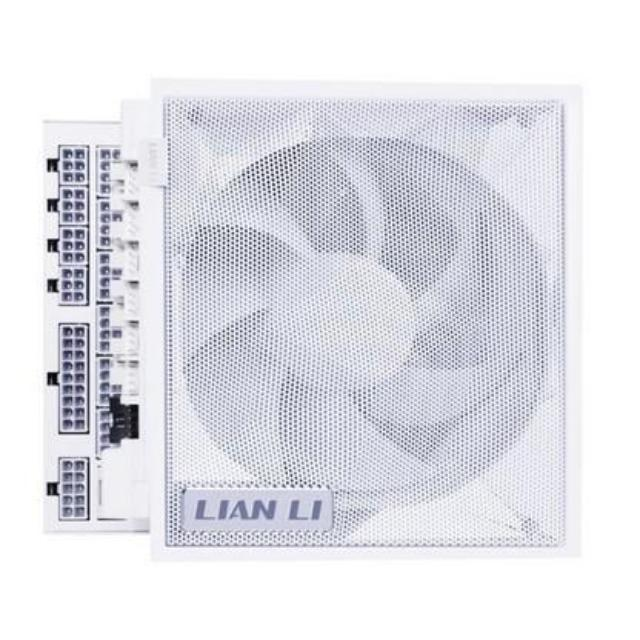PSU: (3, 78, 586, 584)
